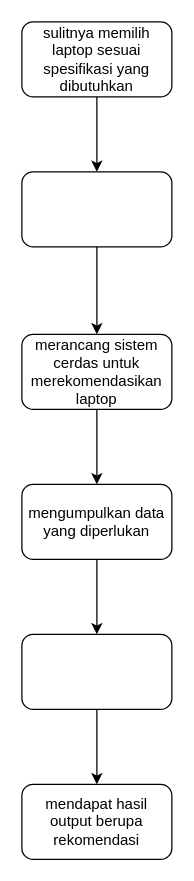
The diagram is 194 pixels wide and 881 high, and some of its shapes have lost their labels. The centre of each missing label's shape, as x and y in pixels:
membangun sistem cerdas: the point at 96,671
Menentukan metode untuk menentukan laptop yang sesuai: the point at 96,209
